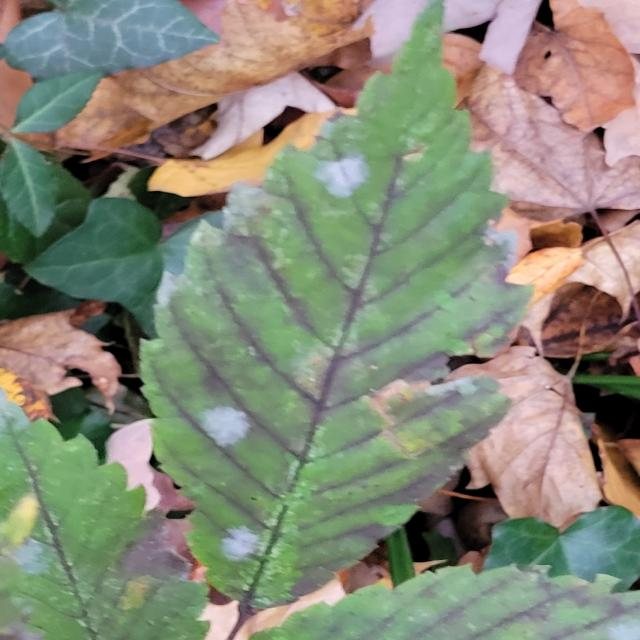powdery_mildew: (142, 9, 528, 617)
